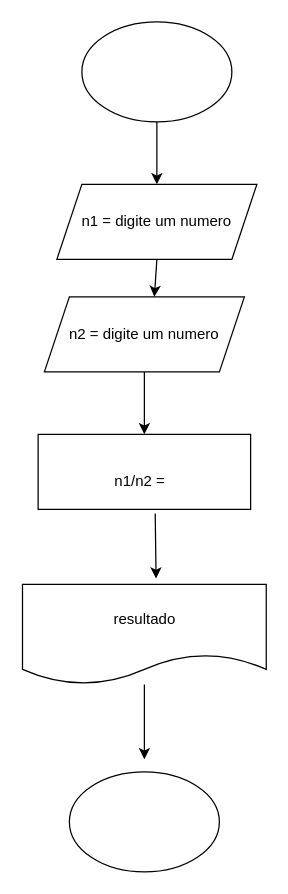
Some shapes in this 288 by 894 pixel diagram are drawn without their labels. The box of each missing label's shape, as (x1, y1, x2, y2) in pixels:
fim: (68, 771, 219, 872)
inicio: (81, 21, 232, 122)
